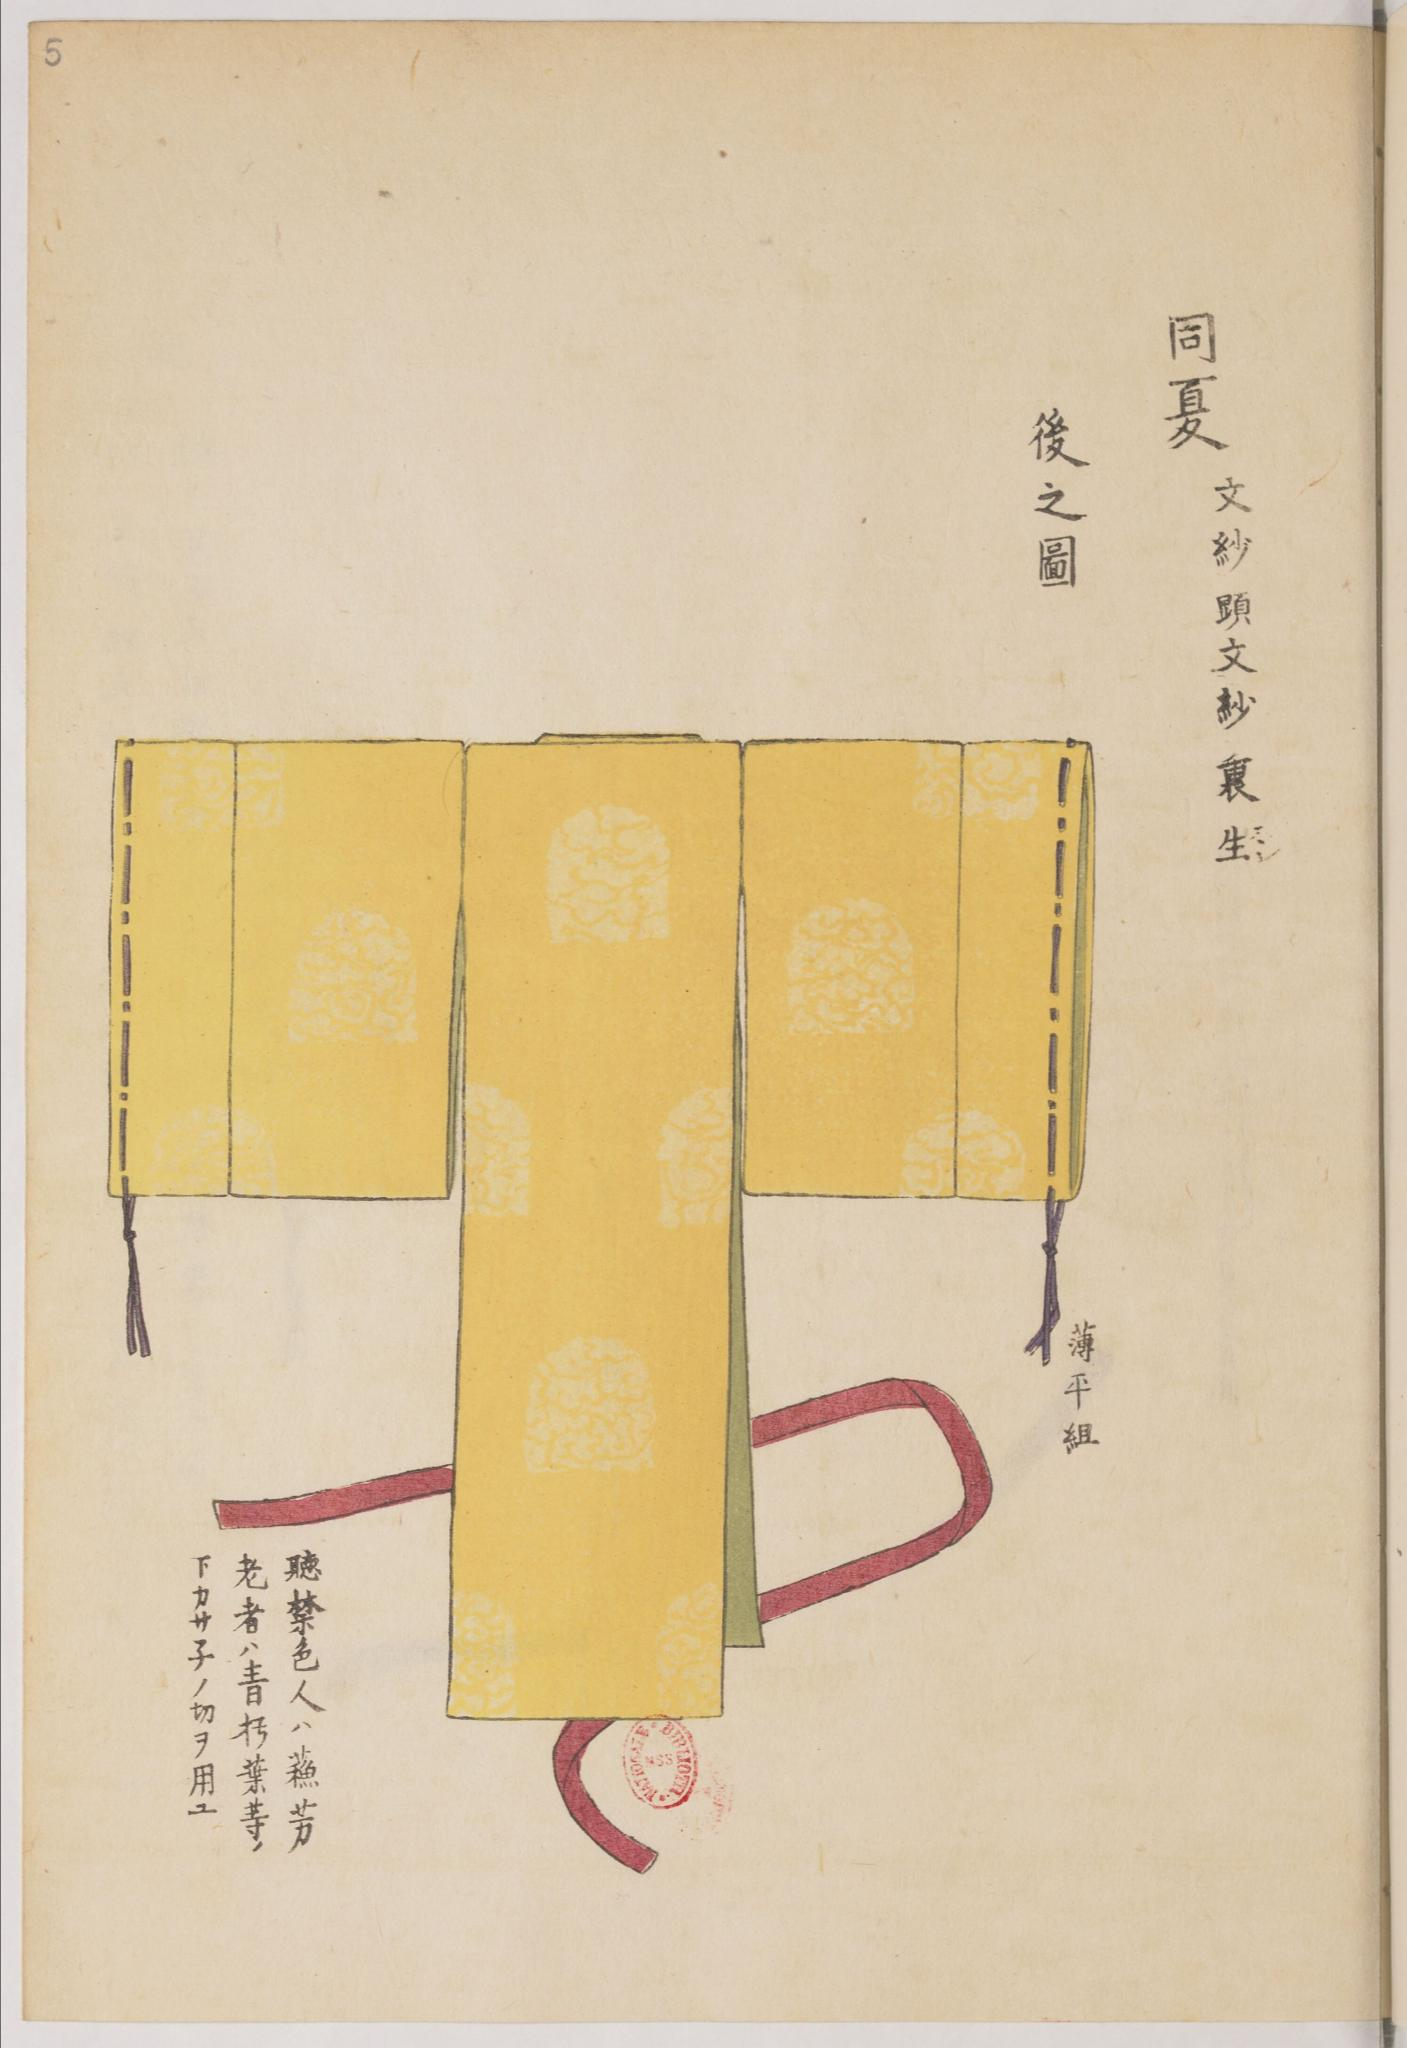MainZone-Character: (1209, 817, 1292, 871)
MainZone-Ruby: (1251, 822, 1290, 870)
